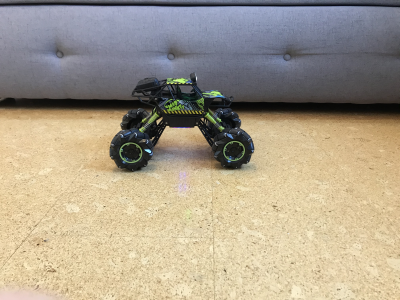remote control car: (106, 70, 256, 174)
